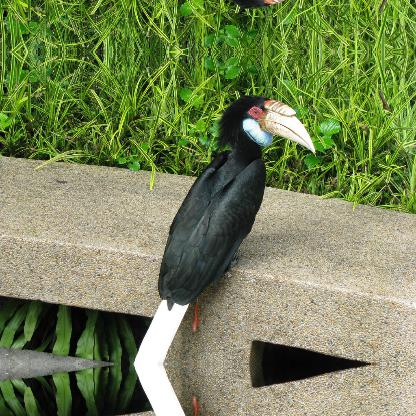Bird: (151, 101, 309, 318)
